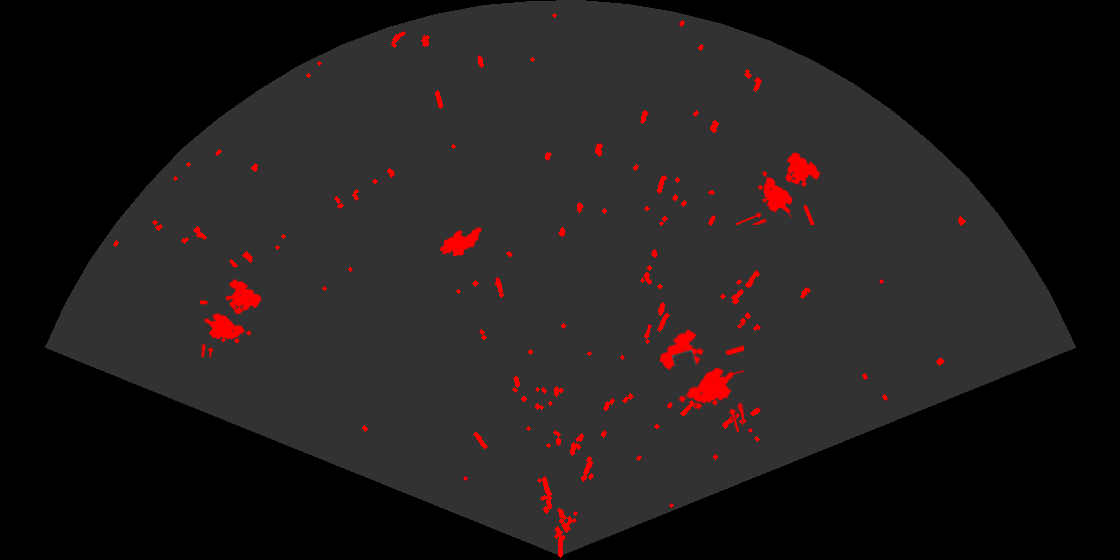AUV: (438, 226, 483, 258)
cage: (657, 327, 744, 432), (736, 151, 822, 225), (200, 277, 263, 357)
